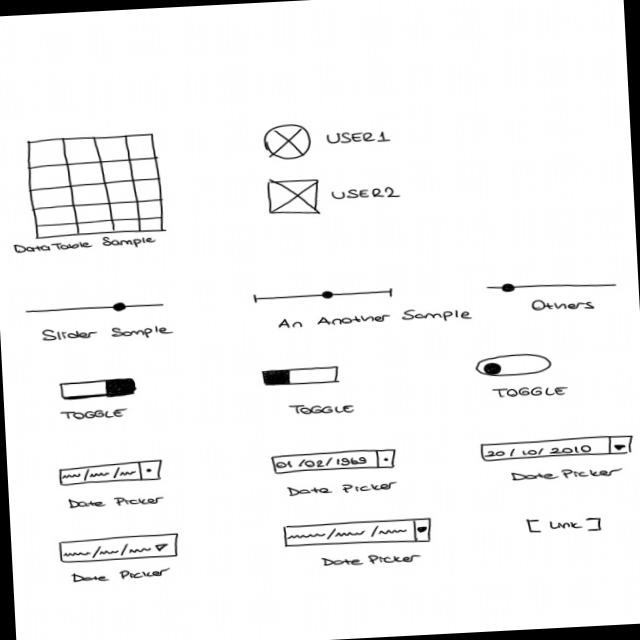image: (264, 176, 321, 218), (260, 121, 312, 160)
label: (274, 306, 476, 332), (11, 232, 157, 257), (38, 321, 177, 345), (506, 464, 626, 484), (283, 479, 399, 499), (320, 550, 424, 570), (70, 566, 172, 584), (65, 492, 166, 510), (490, 382, 573, 402), (324, 127, 394, 147), (330, 184, 400, 204), (286, 400, 358, 418), (527, 296, 597, 314), (59, 406, 130, 423)
link: (526, 514, 604, 536)
select: (282, 514, 434, 552), (476, 433, 636, 462), (56, 530, 182, 566), (269, 447, 399, 476), (56, 458, 164, 486)
slider: (250, 286, 396, 306), (24, 298, 166, 318), (485, 276, 618, 294)
table: (24, 130, 168, 240)
toggle: (56, 376, 139, 402), (474, 352, 554, 378), (259, 364, 341, 388)
